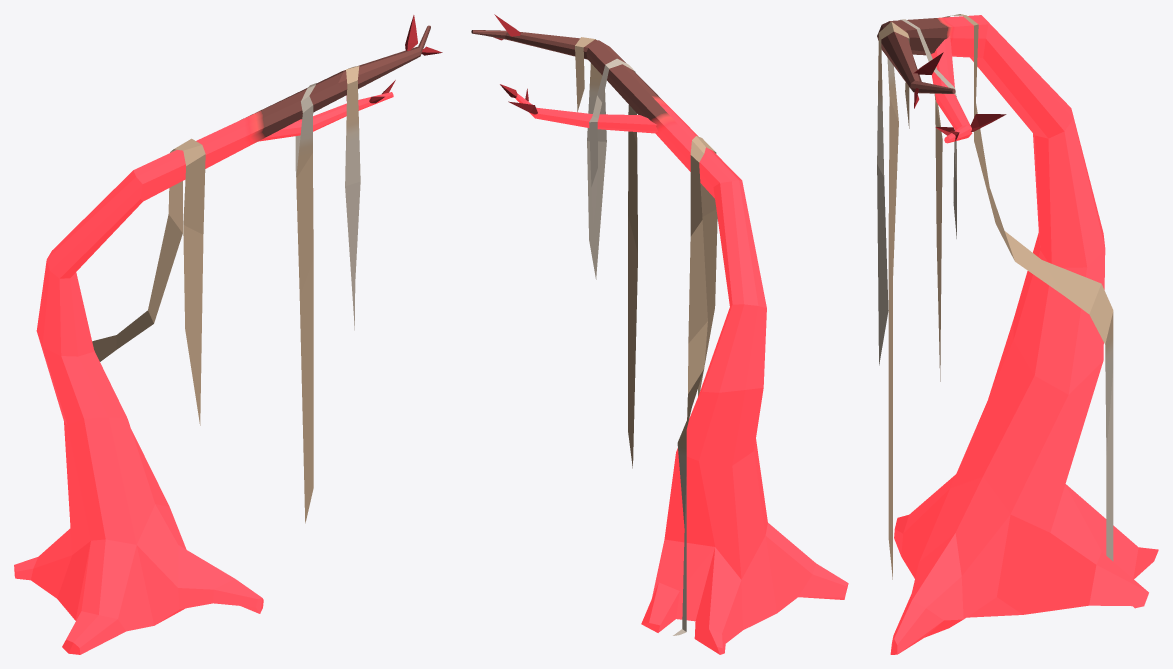
Rendered from SM_Scifi_Tree_Willow_Medium.glb.
The picture shows the model from 3 angles, left to right: view 1: azimuth 30°, elevation 25°; view 2: azimuth 150°, elevation 25°; view 3: azimuth 270°, elevation 25°; orthographic projection. The views are drawn at different scales.
Visible parts, largest first — view 1: scifi-tree-willow-medium; view 2: scifi-tree-willow-medium; view 3: scifi-tree-willow-medium.
Boxes of the visible parts, x1,y1,x2,y2 form: scifi-tree-willow-medium: (14, 15, 442, 654); scifi-tree-willow-medium: (471, 14, 848, 654); scifi-tree-willow-medium: (877, 14, 1158, 654).
Bounding box in the file's own units: 3.89 × 5.28 × 1.89.
Materials: 1 (1 with a texture image).
